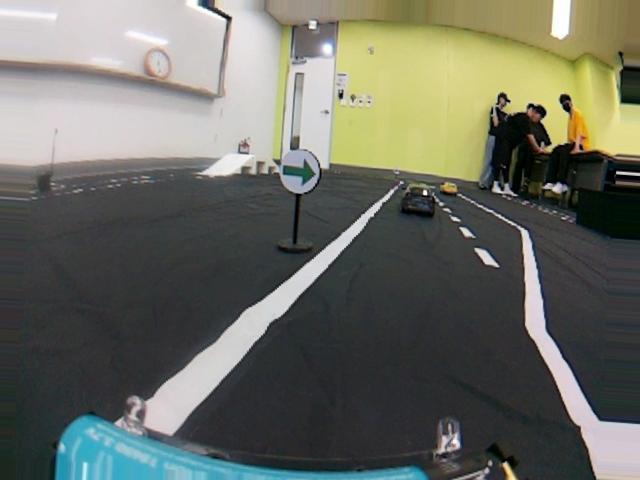car: (394, 180, 441, 221)
right: (116, 262, 640, 465)
sign_right: (274, 154, 317, 195)
